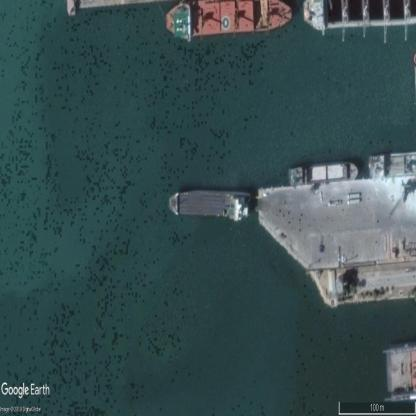ship: (162, 0, 292, 41), (168, 189, 250, 221), (288, 159, 358, 188)
